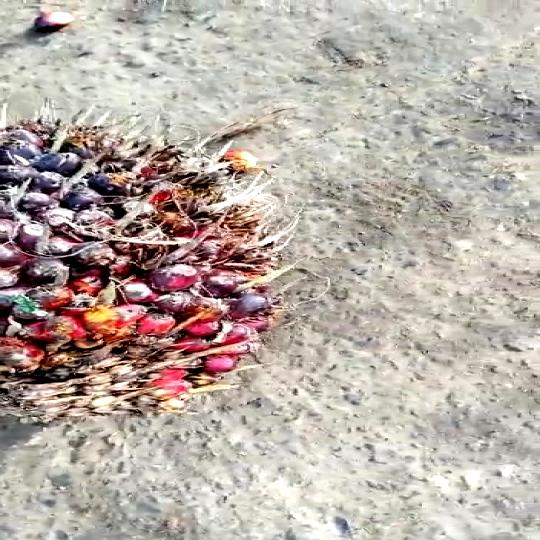masak: (0, 112, 264, 421)
